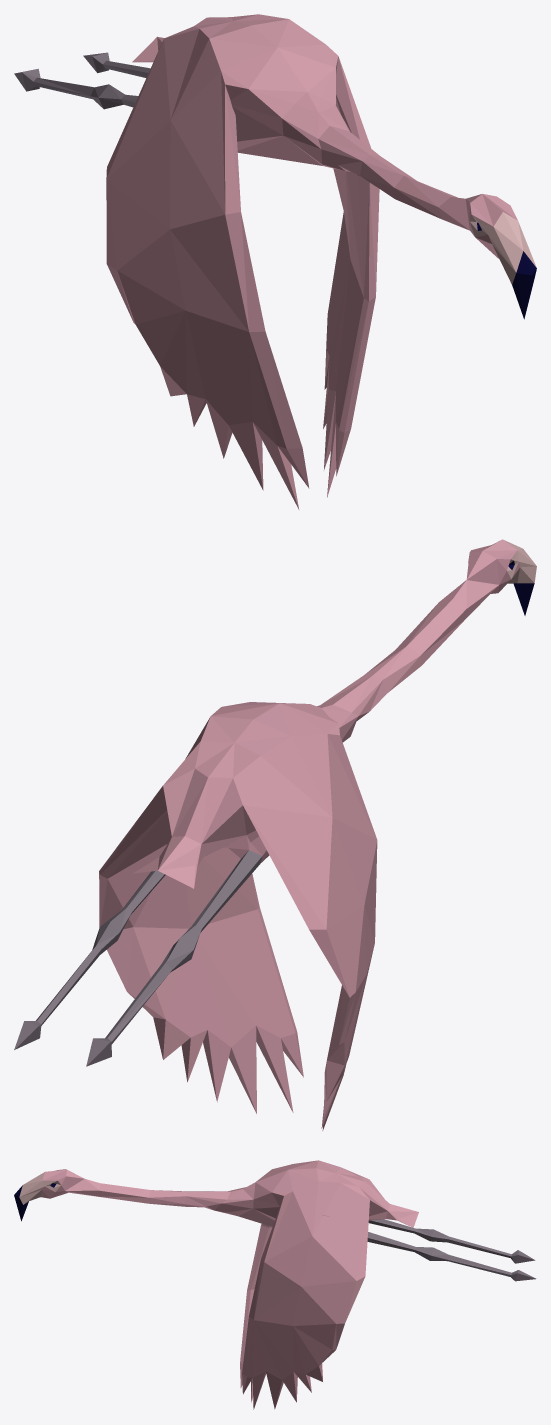
Rendered from Flamingo.gltf.
3 renders of one model, top to bottom at view 1: azimuth 30°, elevation 25°; view 2: azimuth 150°, elevation 25°; view 3: azimuth 270°, elevation 25°, orthographic. The views are drawn at different scales.
Size of the model in its own units: 52.2 by 89.1 by 177.
